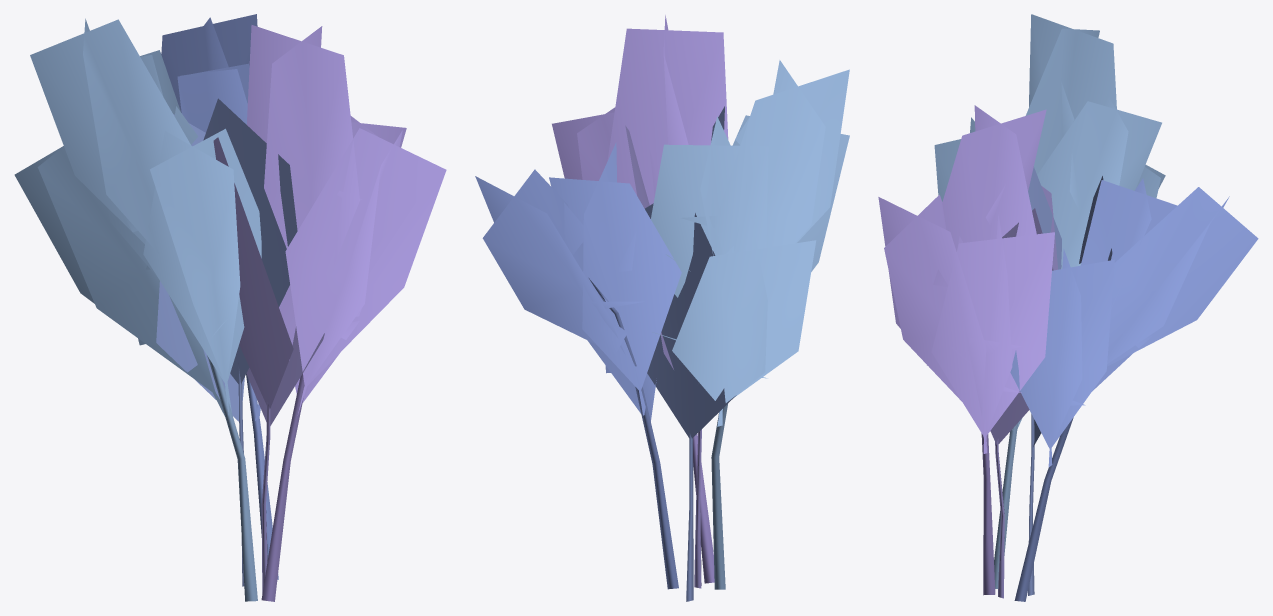
The picture shows the model from 3 angles, left to right: view 1: azimuth 30°, elevation 25°; view 2: azimuth 150°, elevation 25°; view 3: azimuth 270°, elevation 25°; orthographic projection. The views are drawn at different scales.
Visible parts, largest first — view 1: SM_BS_Oleander_75cm_HD; view 2: SM_BS_Oleander_75cm_HD; view 3: SM_BS_Oleander_75cm_HD.
Part boxes in pixels (left/top/right/bottom): SM_BS_Oleander_75cm_HD: left=14, top=14, right=446, bottom=601; SM_BS_Oleander_75cm_HD: left=475, top=15, right=849, bottom=601; SM_BS_Oleander_75cm_HD: left=878, top=14, right=1258, bottom=601.
Bounding box in the file's own units: 19.81 × 17.52 × 29.81.
